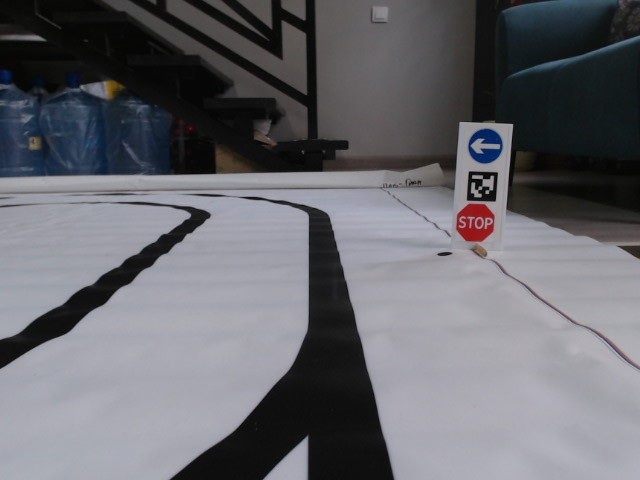Stop: (458, 202, 497, 242)
